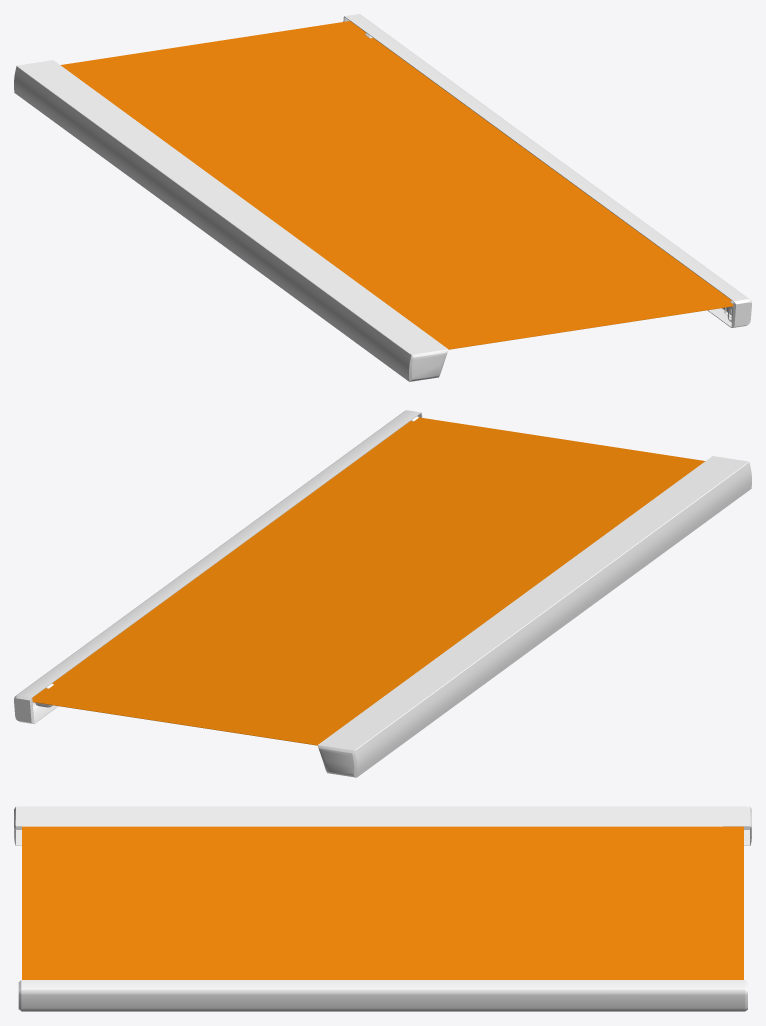
Rendered from Sonnentraum.glb.
3 views of the same model, one above another, from view 1: azimuth 30°, elevation 25°; view 2: azimuth 150°, elevation 25°; view 3: azimuth 270°, elevation 25° (orthographic). The views are drawn at different scales.
Parts seen in each view (by area): view 1: Plane.001, Edge.003, Plane; view 2: Plane.001, Edge.003, Plane; view 3: Plane.001, Plane, Edge.003.
Boxes of the visible parts, x1,y1,x2,y2 form: Plane.001: [60, 21, 733, 349]; Edge.003: [14, 60, 448, 381]; Plane: [343, 14, 751, 327]; Plane.001: [32, 417, 705, 745]; Edge.003: [318, 456, 751, 777]; Plane: [14, 410, 422, 724]; Plane.001: [22, 826, 743, 979]; Plane: [18, 980, 747, 1011]; Edge.003: [14, 806, 751, 845].
Size of the model in its own units: 2.01 by 0.3093 by 4.
Materials: 3 (1 with a texture image).
